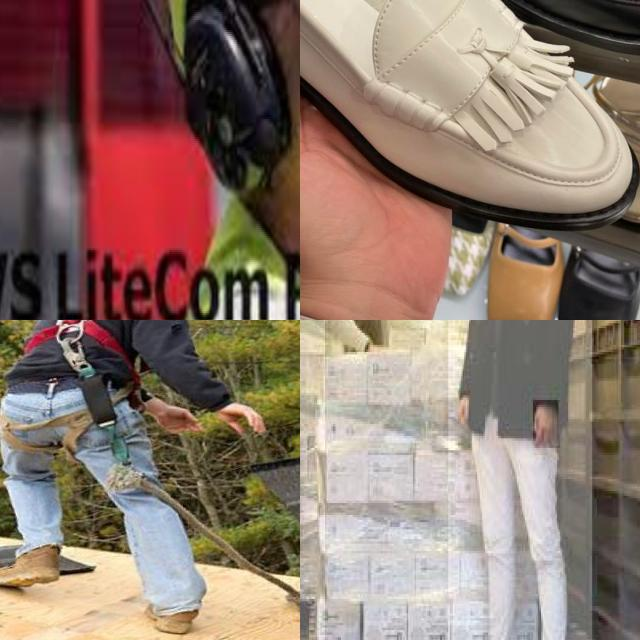Ear-protection: (159, 0, 300, 242)
Harness: (26, 320, 141, 428)
Sandals: (300, 0, 640, 253), (331, 0, 640, 81)
hand_noglove: (533, 400, 560, 450), (455, 390, 472, 429)
person: (448, 320, 593, 640)
